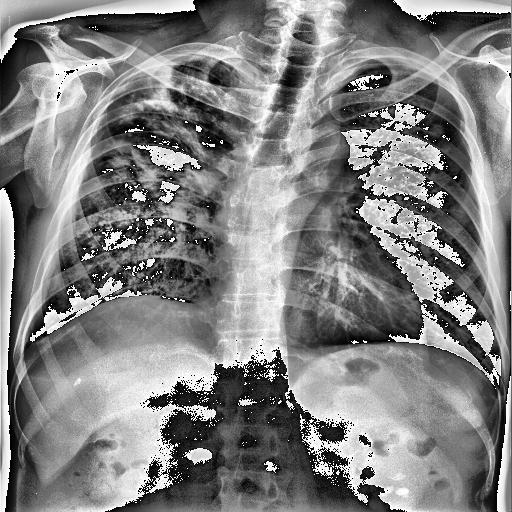1- Atelectasis: (78, 71, 224, 251)
10- Pleural effusion: (22, 332, 39, 348)
11- Pleural thickening: (22, 332, 39, 348)
13- Pulmonary fibrosis: (74, 64, 236, 250), (78, 71, 224, 251), (80, 81, 224, 248), (366, 94, 450, 182), (364, 104, 450, 182), (380, 102, 450, 154)
4- Consolidation: (142, 88, 178, 112)
6- Infiltration: (74, 64, 236, 250), (102, 140, 161, 192)
8- Nodule-Mass: (426, 124, 444, 138), (429, 124, 444, 138)
